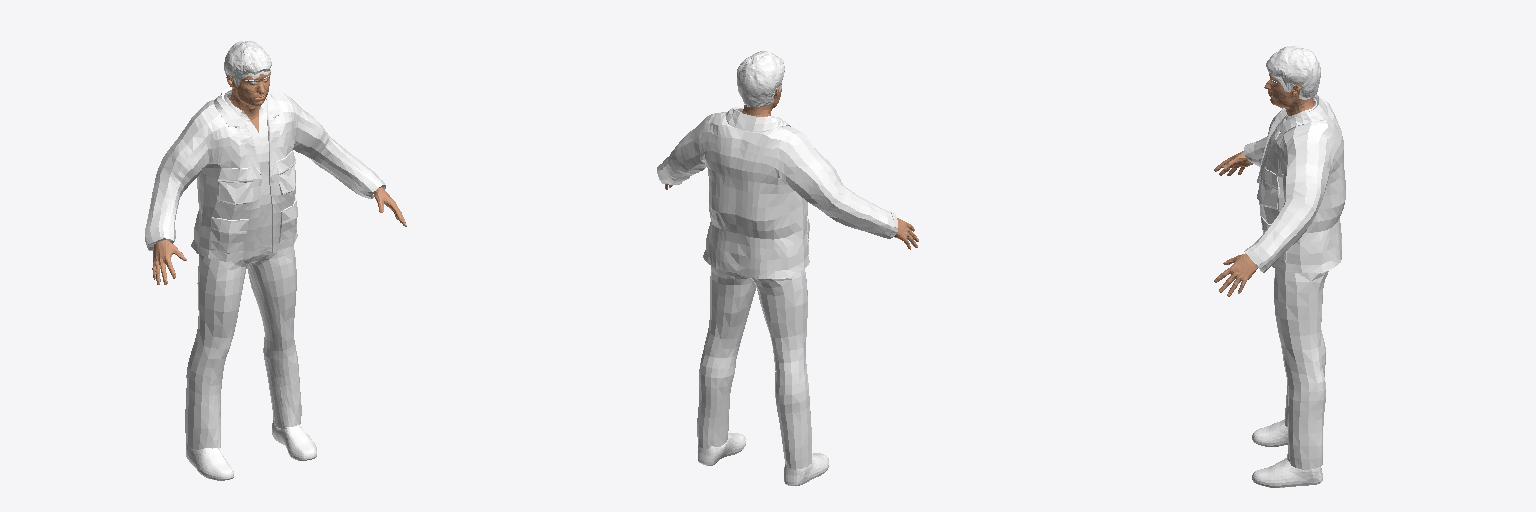
File: man1.obj
3 renders of one model, left to right at view 1: azimuth 30°, elevation 25°; view 2: azimuth 150°, elevation 25°; view 3: azimuth 270°, elevation 25°, orthographic.
Parts seen in each view (by area): view 1: male_casualsuit05.obj, base.obj, shoes02.obj, short02.obj; view 2: male_casualsuit05.obj, short02.obj, shoes02.obj, base.obj; view 3: male_casualsuit05.obj, base.obj, shoes02.obj, short02.obj.
Boxes of the visible parts, x1=… form: male_casualsuit05.obj: x1=145, y1=88, x2=385, y2=449; base.obj: x1=152, y1=72, x2=406, y2=284; shoes02.obj: x1=186, y1=420, x2=316, y2=480; short02.obj: x1=224, y1=41, x2=271, y2=88; male_casualsuit05.obj: x1=657, y1=107, x2=897, y2=469; short02.obj: x1=737, y1=51, x2=784, y2=107; shoes02.obj: x1=698, y1=433, x2=828, y2=485; base.obj: x1=665, y1=83, x2=918, y2=249; male_casualsuit05.obj: x1=1244, y1=94, x2=1345, y2=469; base.obj: x1=1214, y1=74, x2=1315, y2=296; shoes02.obj: x1=1252, y1=419, x2=1322, y2=487; short02.obj: x1=1266, y1=46, x2=1320, y2=99.
Size of the model in its own units: 11.77 by 18.78 by 5.42.